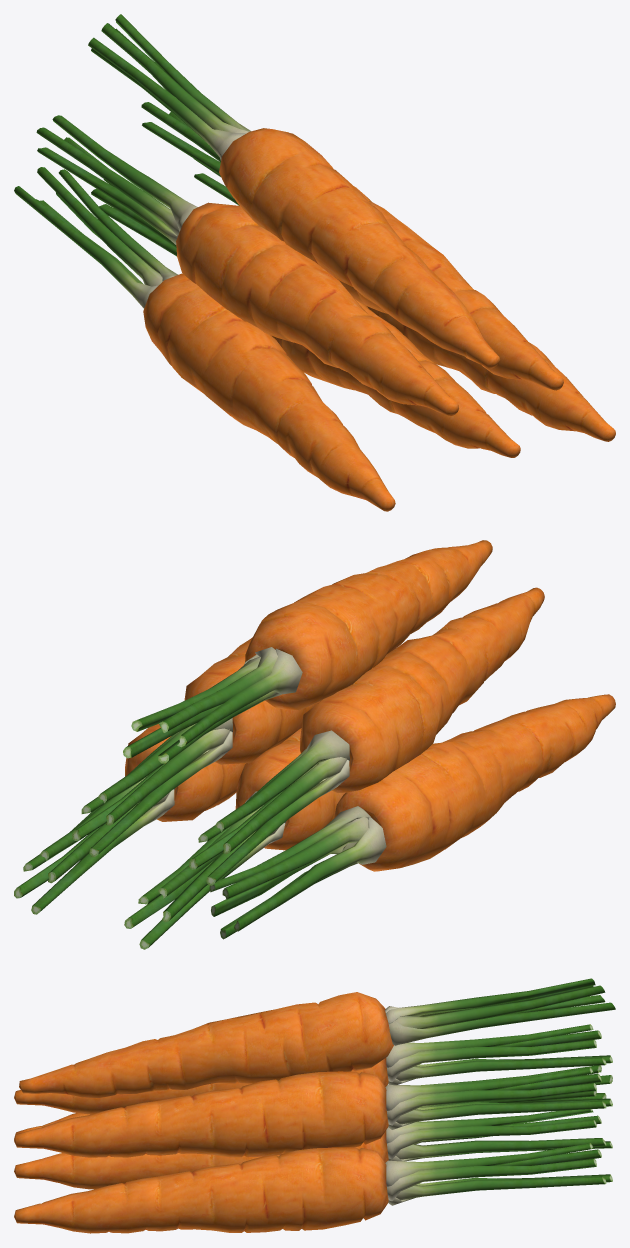
File: Sabzi.fbx
3 renders of one model, top to bottom at view 1: azimuth 30°, elevation 25°; view 2: azimuth 150°, elevation 25°; view 3: azimuth 270°, elevation 25°, orthographic. The views are drawn at different scales.
Parts seen in each view (by area): view 1: Open3DModel (1) (4).005, Open3DModel (1) (4).004, Open3DModel (1) (4), Open3DModel (1) (4).001, Open3DModel (1) (4).003, Open3DModel (1) (4).002; view 2: Open3DModel (1) (4), Open3DModel (1) (4).004, Open3DModel (1) (4).005, Open3DModel (1) (4).003, Open3DModel (1) (4).001, Open3DModel (1) (4).002; view 3: Open3DModel (1) (4).002, Open3DModel (1) (4).003, Open3DModel (1) (4).005, Open3DModel (1) (4).001, Open3DModel (1) (4).004, Open3DModel (1) (4).
Boxes of the visible parts, x1=… form: Open3DModel (1) (4).005: x1=88, y1=14, x2=500, y2=368; Open3DModel (1) (4).004: x1=36, y1=115, x2=458, y2=415; Open3DModel (1) (4): x1=14, y1=167, x2=395, y2=511; Open3DModel (1) (4).001: x1=91, y1=179, x2=520, y2=457; Open3DModel (1) (4).003: x1=141, y1=102, x2=563, y2=390; Open3DModel (1) (4).002: x1=193, y1=158, x2=615, y2=441; Open3DModel (1) (4): x1=209, y1=694, x2=615, y2=939; Open3DModel (1) (4).004: x1=189, y1=587, x2=544, y2=885; Open3DModel (1) (4).005: x1=123, y1=540, x2=492, y2=763; Open3DModel (1) (4).003: x1=72, y1=637, x2=318, y2=857; Open3DModel (1) (4).001: x1=124, y1=728, x2=345, y2=949; Open3DModel (1) (4).002: x1=14, y1=724, x2=245, y2=914; Open3DModel (1) (4).002: x1=14, y1=1143, x2=612, y2=1233; Open3DModel (1) (4).003: x1=14, y1=1067, x2=612, y2=1157; Open3DModel (1) (4).005: x1=19, y1=978, x2=615, y2=1098; Open3DModel (1) (4).001: x1=14, y1=1109, x2=612, y2=1189; Open3DModel (1) (4).004: x1=14, y1=1024, x2=612, y2=1114; Open3DModel (1) (4): x1=14, y1=1065, x2=612, y2=1139.
Size of the model in its own units: 421 by 337 by 930.
Materials: 1 (1 with a texture image).
